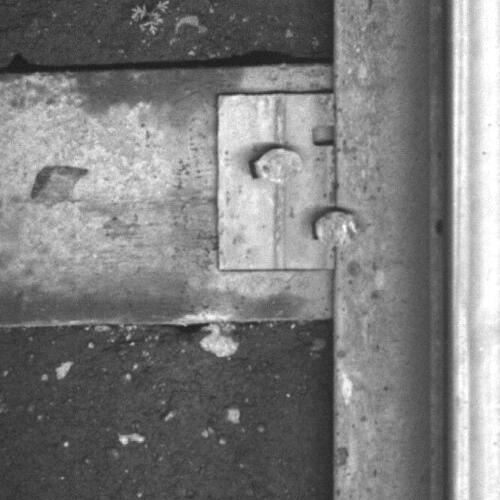do: (216, 92, 363, 270)
rail: (449, 1, 500, 500)
tie_wood: (1, 67, 336, 321)
